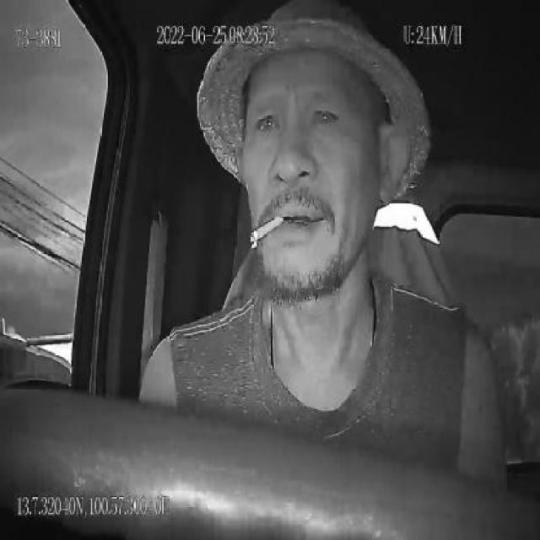smoking: (250, 215, 284, 245)
